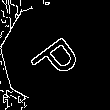P_NE: (24, 25, 86, 85)
